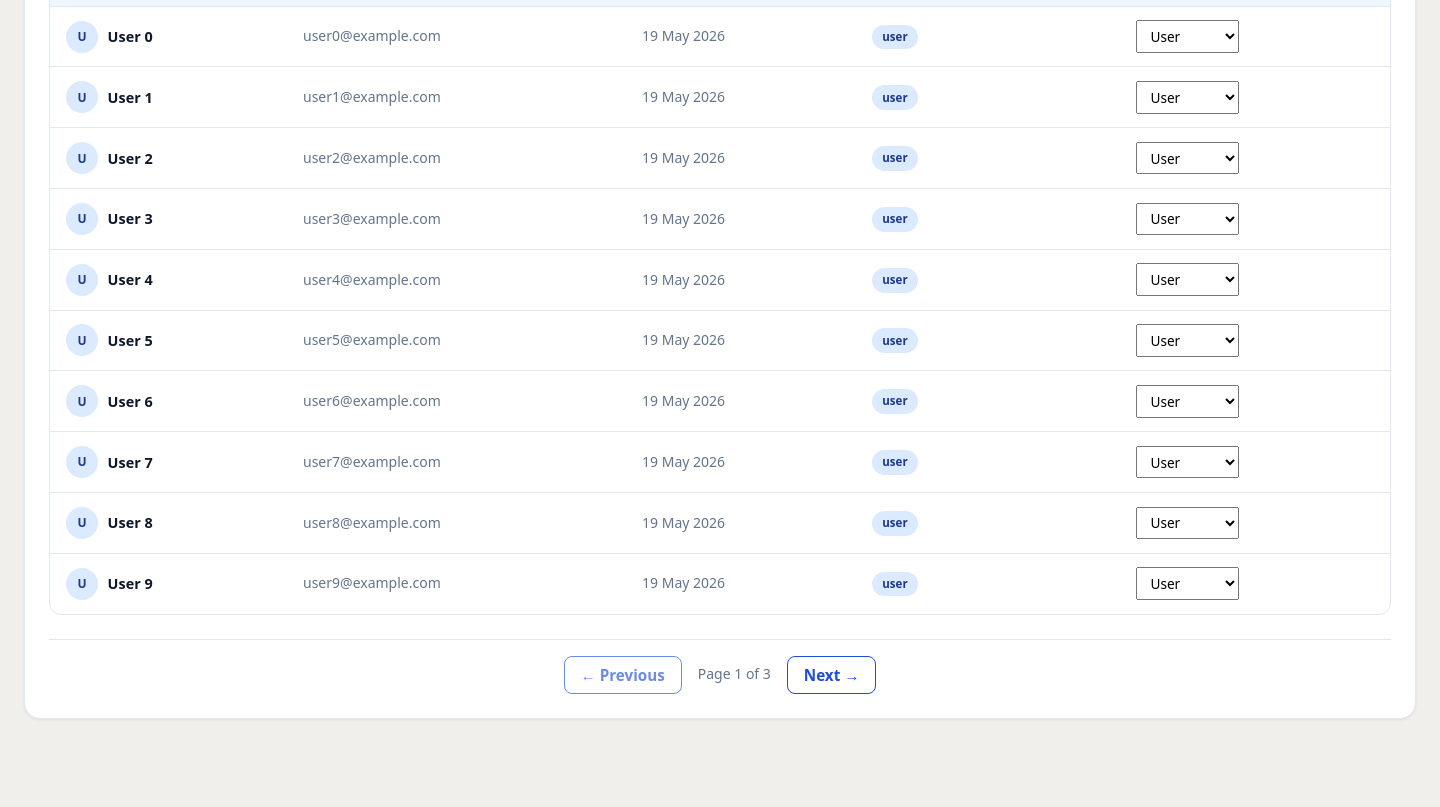
Test case: AdminPage › User filtering and pagination › resets to page 1 when search changes
(page scrolled)
Expected: the text "User 0" is shown, x1=108 y1=27 x2=153 y2=46
Go to page 2
Click the button "Next →" at (832, 674), box x1=787 y1=656 x2=876 y2=694
(page scrolled)
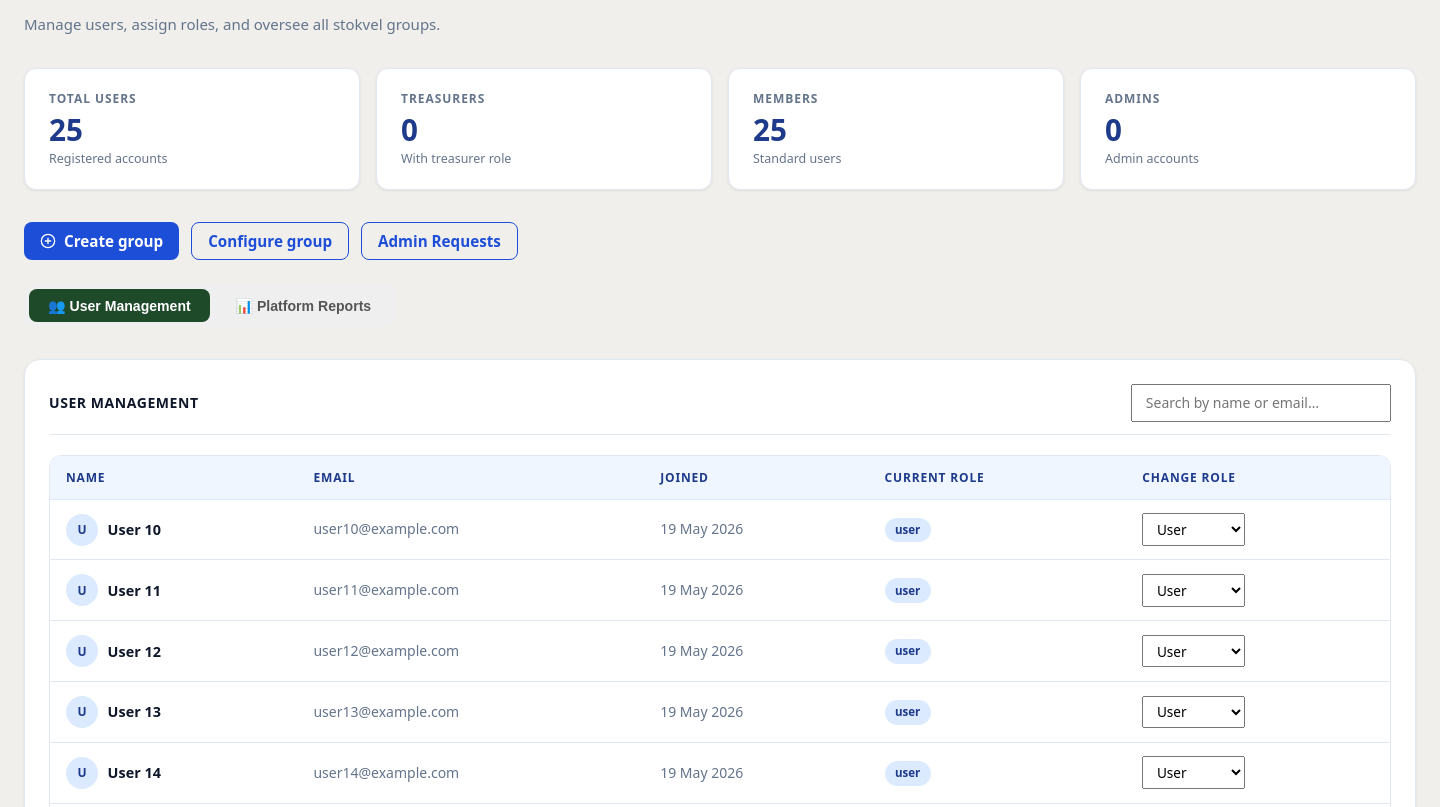
Change search
Type "User" into the field with placeholder "Search by name or email…" at (1261, 403), box x1=1131 y1=384 x2=1391 y2=422
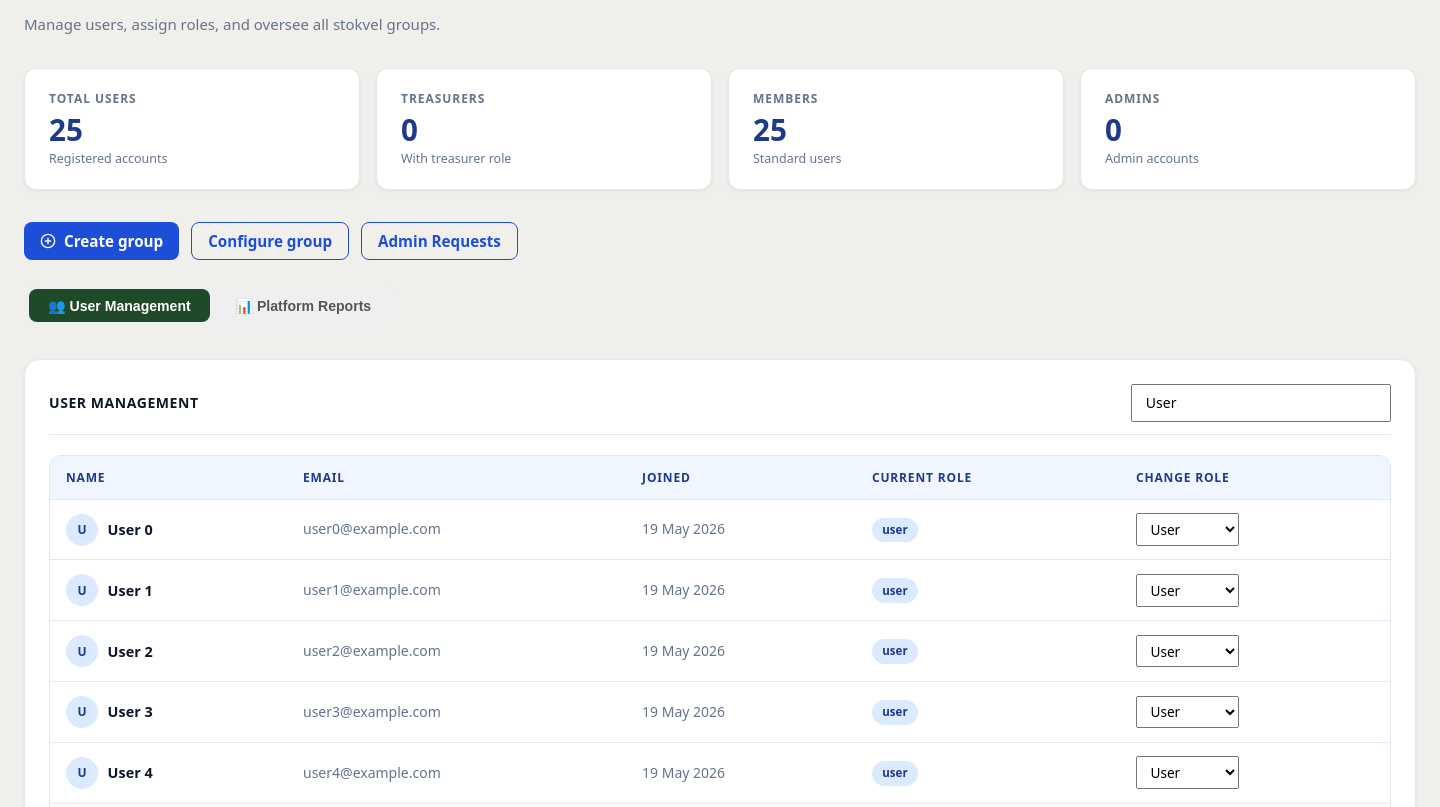
Now the text "User 0" is shown, box x1=108 y1=520 x2=153 y2=539
